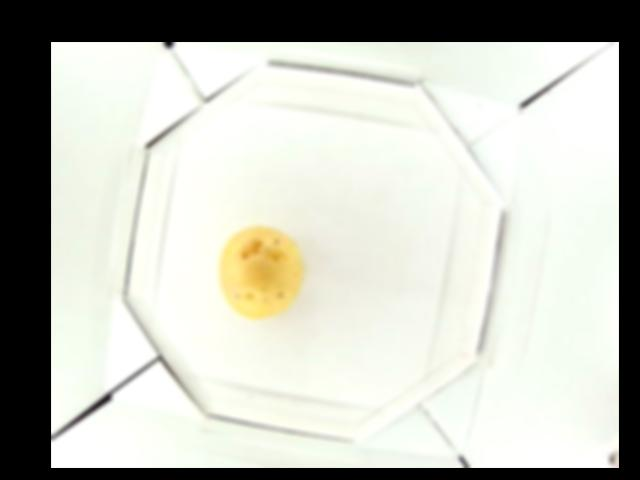Potato: (217, 223, 305, 319)
